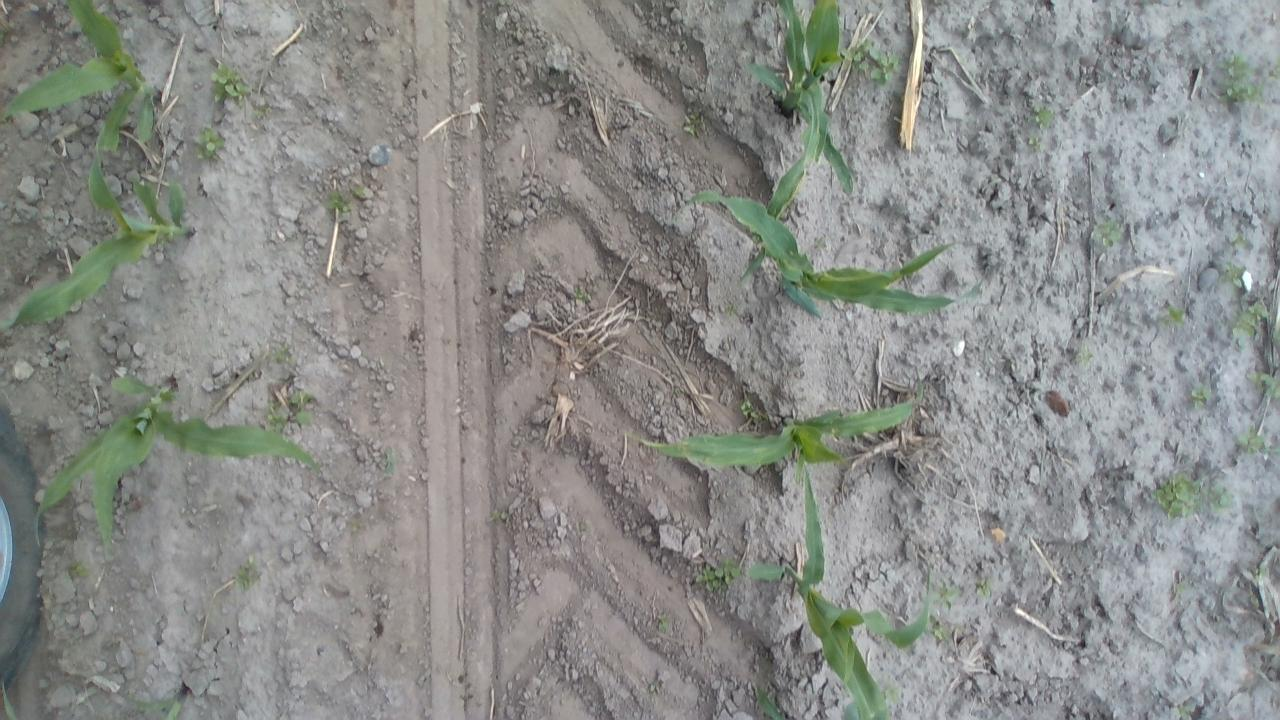Maize: (28, 374, 326, 558), (740, 458, 936, 720), (0, 127, 202, 332), (683, 194, 985, 314), (741, 0, 858, 282), (0, 0, 168, 182), (632, 392, 930, 483), (120, 673, 196, 720), (749, 681, 789, 720)
Weeds: (1218, 48, 1270, 107), (1150, 473, 1206, 521), (849, 40, 904, 87), (694, 556, 745, 598), (209, 62, 253, 110), (1227, 298, 1269, 342), (324, 182, 369, 219), (286, 388, 316, 432), (1236, 426, 1273, 460), (196, 122, 227, 160), (1090, 216, 1124, 248), (232, 558, 262, 592), (264, 404, 296, 434), (1028, 99, 1058, 130), (682, 104, 708, 138), (1250, 368, 1278, 398), (1159, 302, 1188, 330), (1208, 484, 1236, 512), (934, 578, 959, 608), (1220, 262, 1246, 290), (572, 274, 596, 304), (378, 445, 400, 477), (1188, 384, 1218, 407), (928, 620, 956, 644), (66, 557, 92, 582), (974, 575, 999, 601), (736, 397, 764, 420), (272, 343, 298, 367), (641, 676, 667, 697), (0, 16, 17, 48), (656, 611, 676, 635), (490, 505, 512, 526), (1073, 347, 1095, 368), (1230, 231, 1251, 252), (250, 103, 272, 123), (1172, 702, 1197, 719), (1170, 580, 1190, 601), (1266, 55, 1280, 84), (1247, 584, 1262, 609), (344, 516, 363, 535), (722, 302, 741, 320), (1026, 136, 1043, 154), (812, 234, 828, 253), (1253, 560, 1266, 581)
